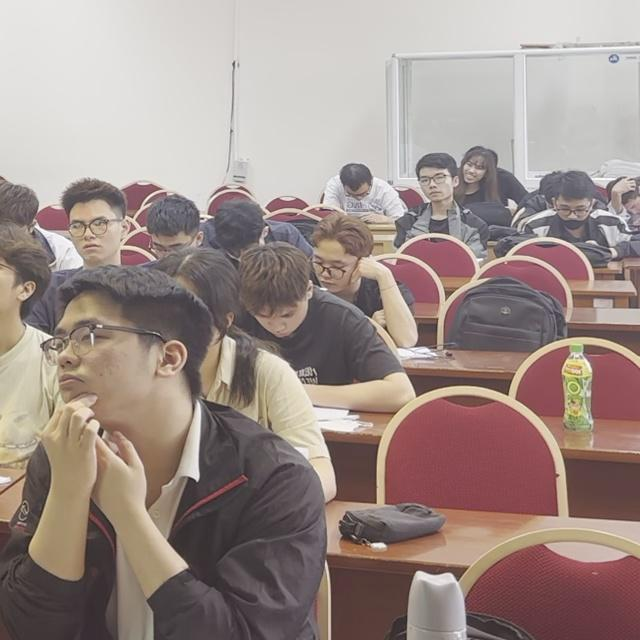Looking away: (243, 301, 312, 343), (312, 242, 358, 293), (553, 199, 590, 229), (460, 156, 486, 185), (341, 177, 372, 201)
Looking forward: (53, 298, 143, 424), (69, 200, 121, 268), (414, 165, 455, 206)
